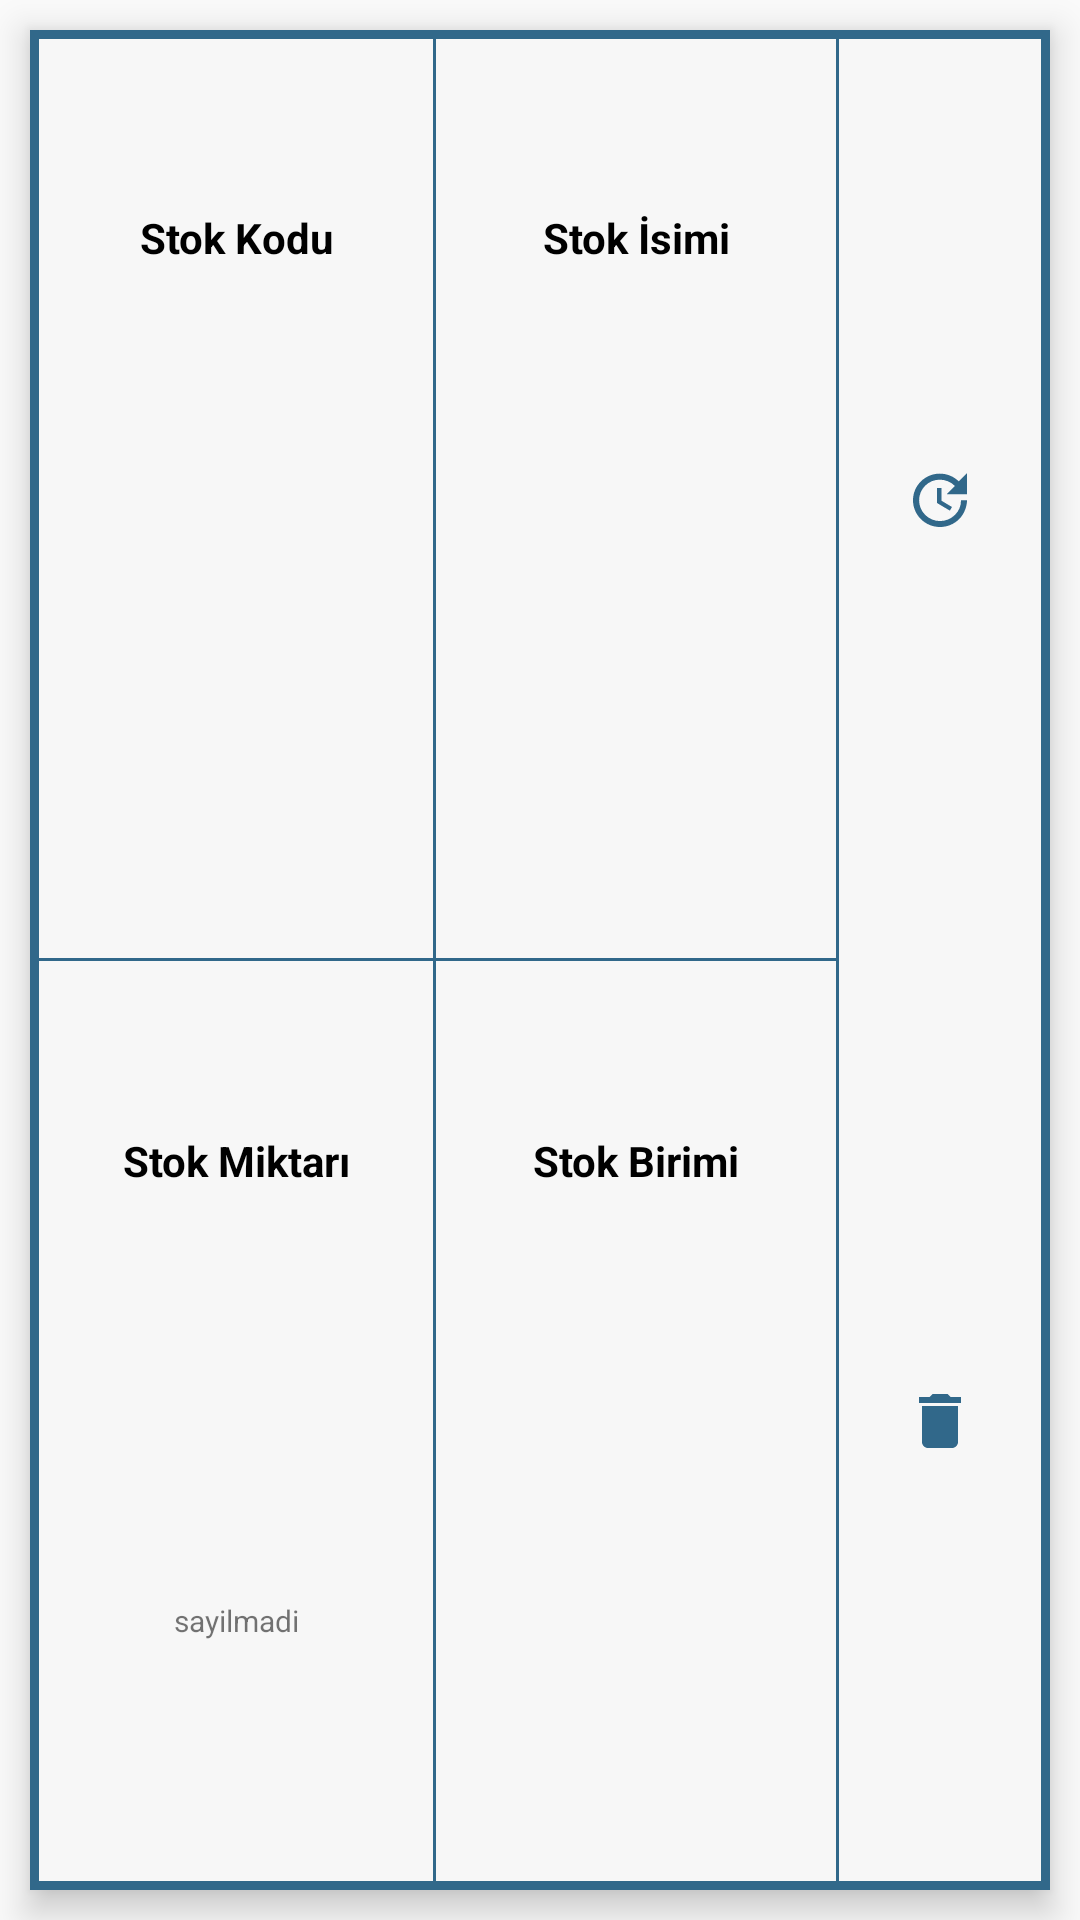

Icon click points for this 1080×1920 phone screenshot, format [x,y]:
delete: [940,1421]
update: [940,500]
